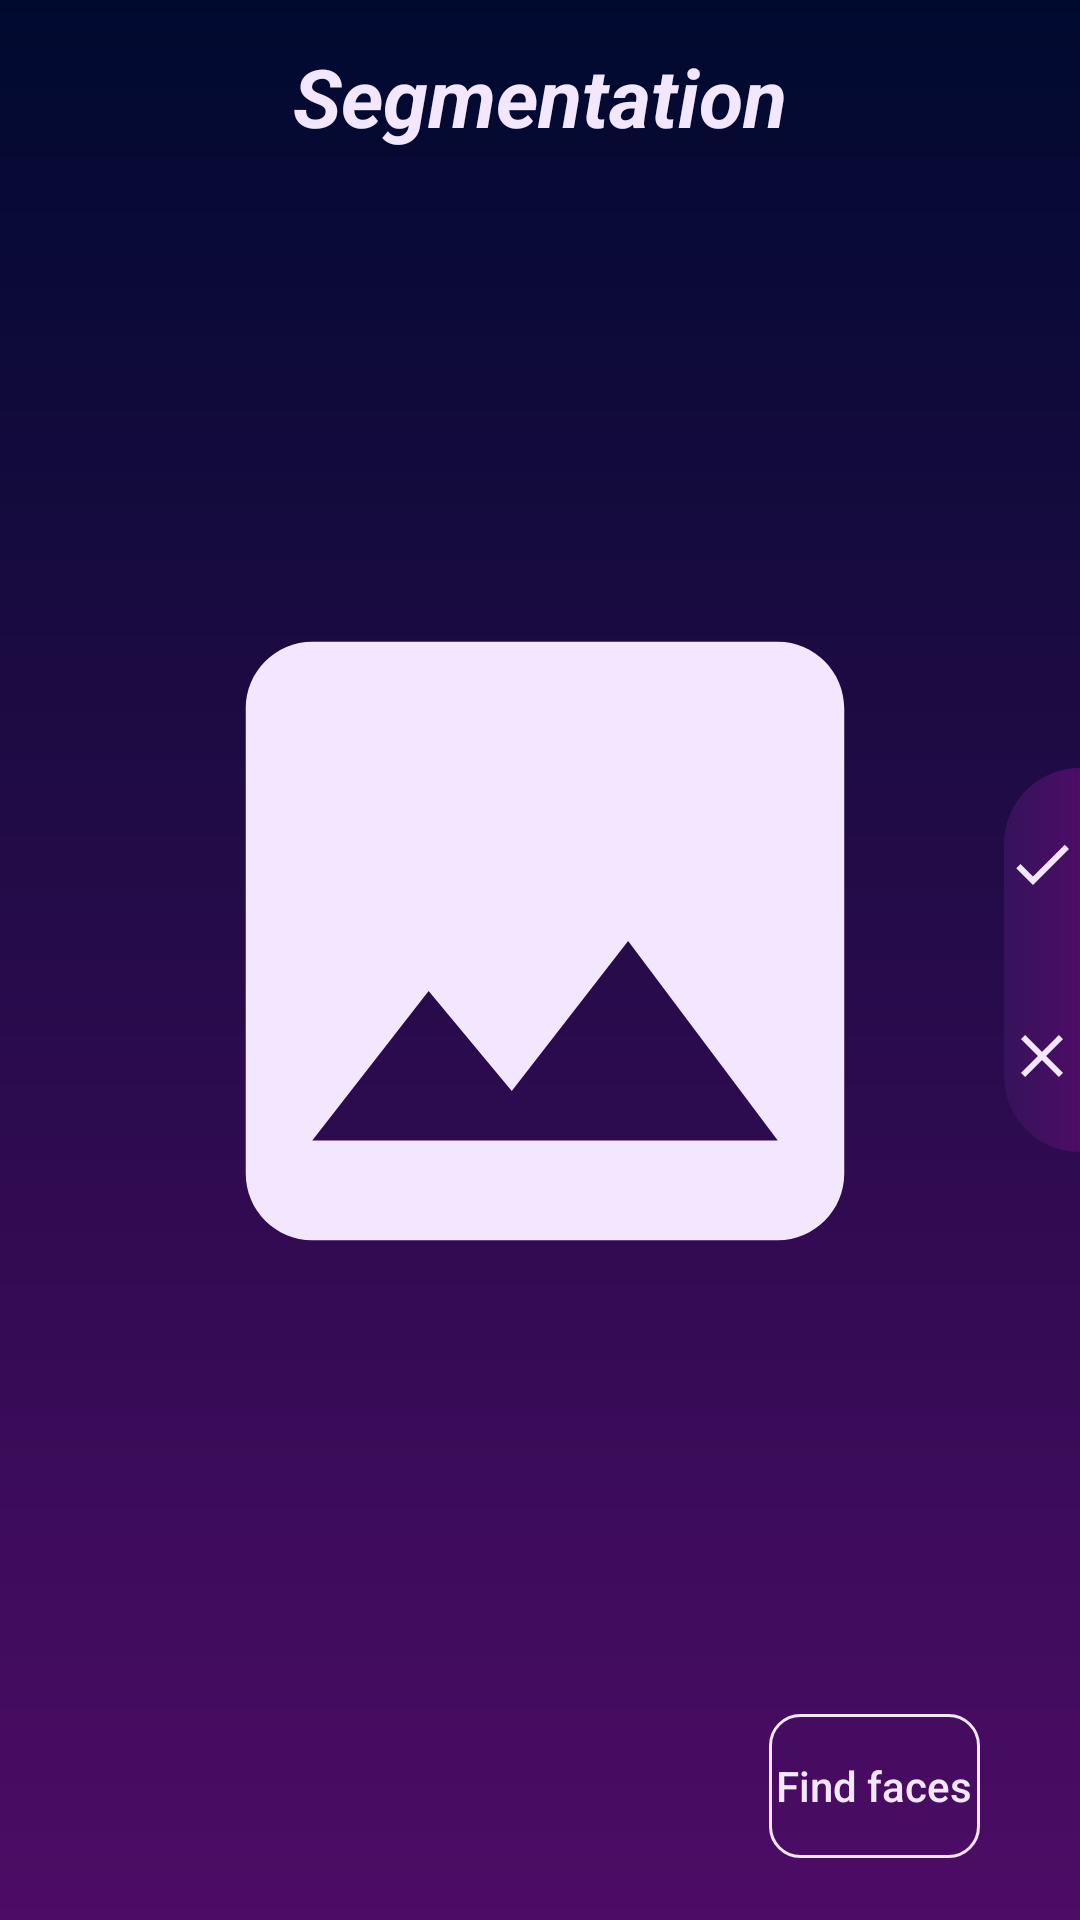

Icon bounding boxes for this 1080px×1920px phone screenshot, format {"x1": x1, "y1": y1, "x2": x2, "y2": y2}:
No: {"x1": 1021, "y1": 960, "x2": 1080, "y2": 1152}
Yes: {"x1": 1016, "y1": 768, "x2": 1080, "y2": 960}
